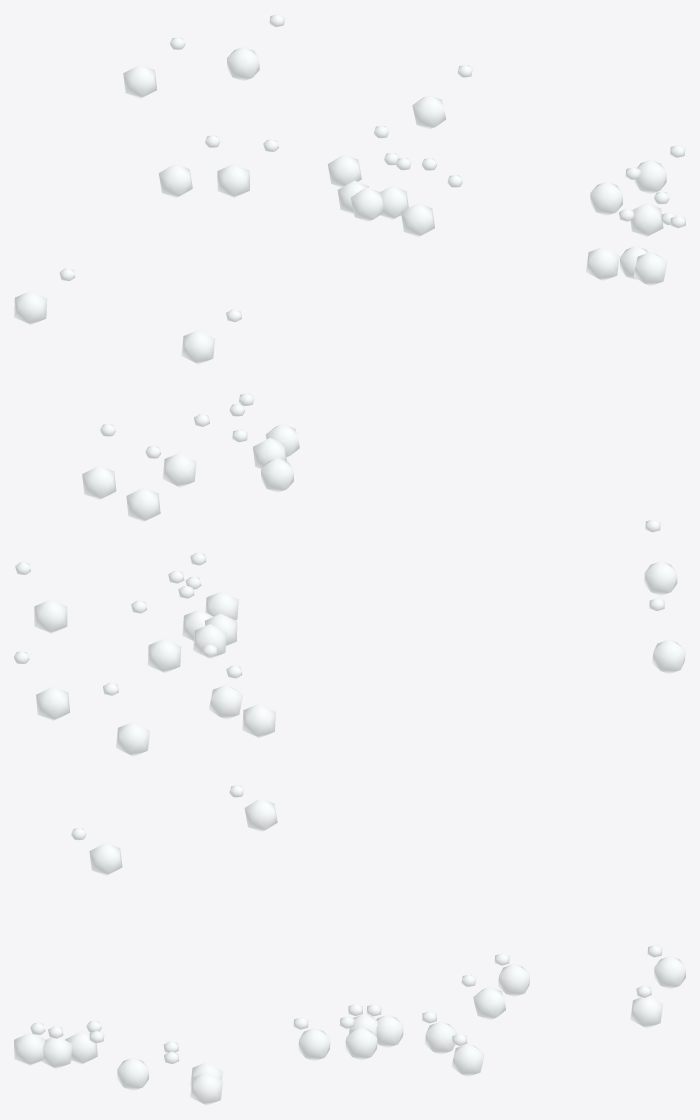
File: model_chunk_3.glb
3 views of the same model, one above another, from view 1: azimuth 30°, elevation 25°; view 2: azimuth 150°, elevation 25°; view 3: azimuth 270°, elevation 25° (orthographic). The views are drawn at different scales.
Visible parts, largest first — view 1: SplashParticle01542, SplashParticle01599, SplashParticle01600, SplashParticle01547, SplashParticle01563, SplashParticle01500, SplashParticle01521, SplashParticle01612, SplashParticle01534, SplashParticle01505, SplashParticle01581, SplashParticle01550 (+6 smaller); view 2: SplashParticle01581, SplashParticle01534, SplashParticle01568, SplashParticle01521, SplashParticle01612, SplashParticle01547, SplashParticle01518, SplashParticle01528, SplashParticle01600, SplashParticle01500, SplashParticle01599, SplashParticle01542 (+6 smaller); view 3: SplashParticle01528, SplashParticle01600, SplashParticle01564, SplashParticle01534, SplashParticle01563, SplashParticle01547, SplashParticle01518, SplashParticle01542, SplashParticle01599, SplashParticle01612, SplashParticle01581, SplashParticle01505 (+6 smaller).
Boxes of the visible parts, <box> form: SplashParticle01542: <box>217,139,278,197</box>; SplashParticle01599: <box>14,268,75,325</box>; SplashParticle01600: <box>181,309,241,364</box>; SplashParticle01547: <box>123,37,185,98</box>; SplashParticle01563: <box>401,175,462,237</box>; SplashParticle01500: <box>586,209,634,280</box>; SplashParticle01521: <box>590,167,640,215</box>; SplashParticle01612: <box>226,14,284,81</box>; SplashParticle01534: <box>158,135,220,198</box>; SplashParticle01505: <box>633,215,685,286</box>; SplashParticle01581: <box>412,65,472,129</box>; SplashParticle01550: <box>351,157,411,221</box>; SplashParticle01581: <box>15,562,67,633</box>; SplashParticle01534: <box>226,665,275,738</box>; SplashParticle01568: <box>131,600,181,673</box>; SplashParticle01521: <box>126,446,160,521</box>; SplashParticle01612: <box>14,651,69,720</box>; SplashParticle01547: <box>103,683,149,756</box>; SplashParticle01518: <box>162,414,209,487</box>; SplashParticle01528: <box>82,424,116,500</box>; SplashParticle01600: <box>644,519,677,595</box>; SplashParticle01500: <box>232,429,293,492</box>; SplashParticle01599: <box>649,598,685,673</box>; SplashParticle01542: <box>202,644,243,719</box>; SplashParticle01528: <box>164,1051,222,1105</box>; SplashParticle01600: <box>71,828,122,875</box>; SplashParticle01564: <box>339,1016,377,1060</box>; SplashParticle01534: <box>494,953,530,996</box>; SplashParticle01563: <box>293,1017,330,1061</box>; SplashParticle01547: <box>647,945,685,989</box>; SplashParticle01518: <box>89,1031,148,1090</box>; SplashParticle01542: <box>461,974,505,1020</box>; SplashParticle01599: <box>229,785,277,831</box>; SplashParticle01612: <box>630,985,663,1028</box>; SplashParticle01581: <box>451,1033,484,1076</box>; SplashParticle01505: <box>14,1022,45,1065</box>.
Bounding box in the file's own units: 0.8459 × 0.1359 × 0.8144.
1 material, 1 textured.
